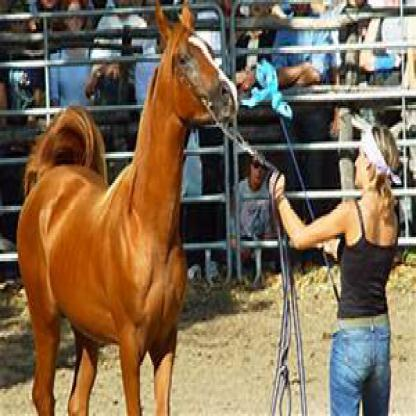cow: (14, 0, 243, 414)
